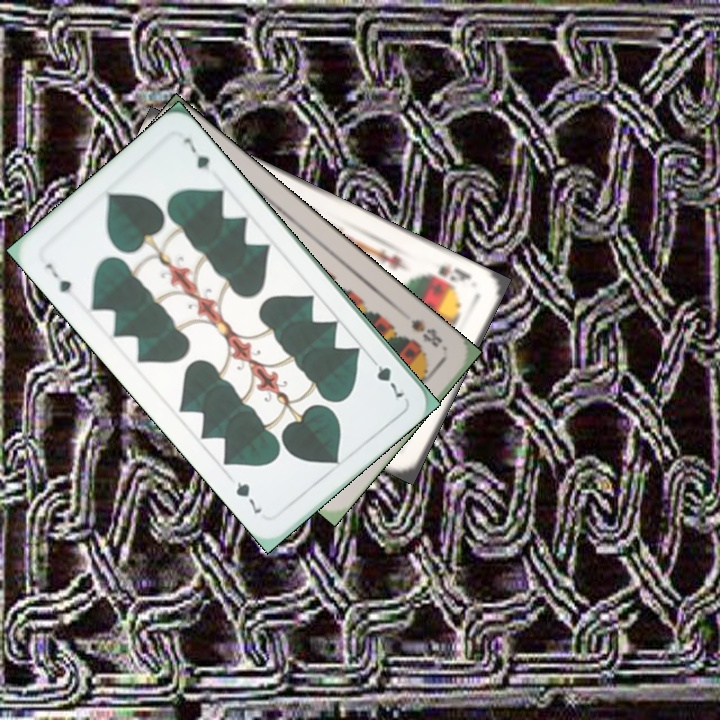G7: (365, 352, 408, 401), (41, 259, 74, 297)
S8: (407, 315, 445, 351)
SK: (434, 261, 474, 285)
